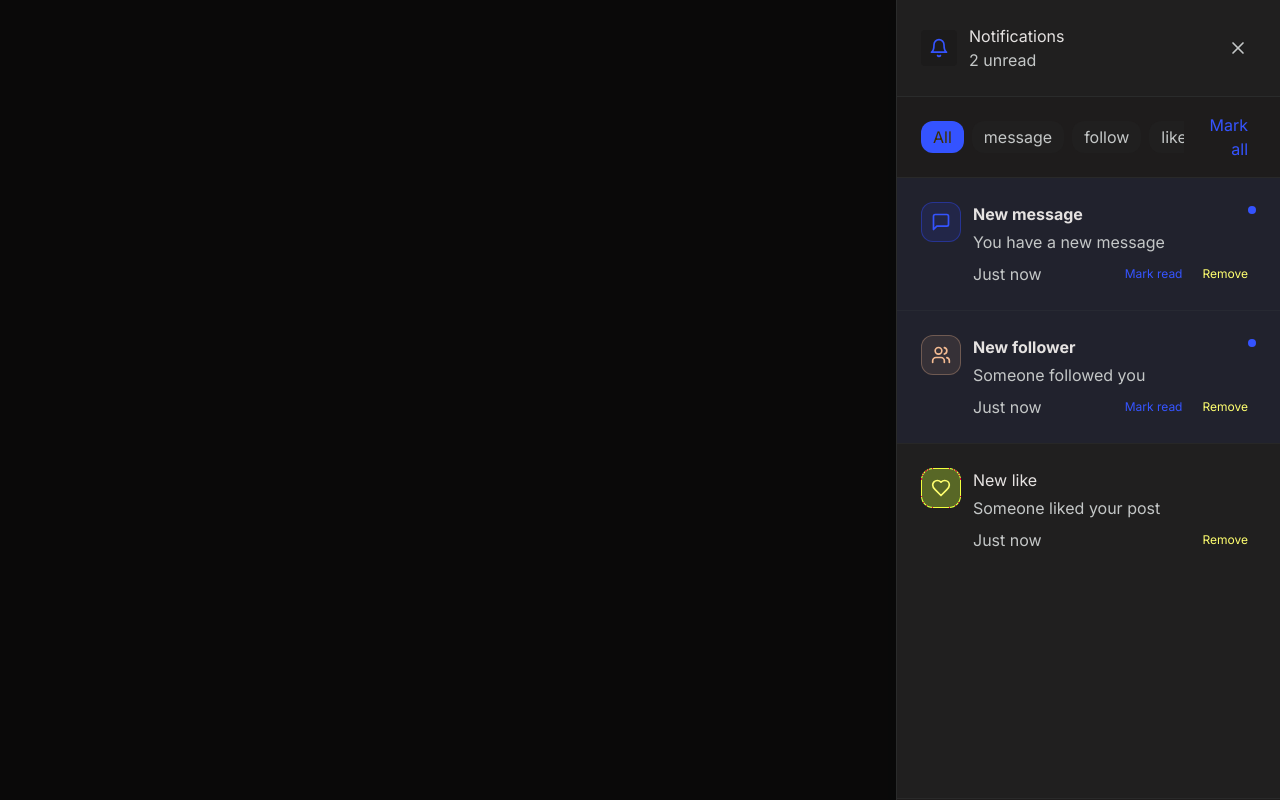
NotificationCenter › should filter notifications by type
What coordinates should you click on to do the following:
click the button "message"
I would click on:
 (1018, 137)
Its box is [972,121,1064,153].
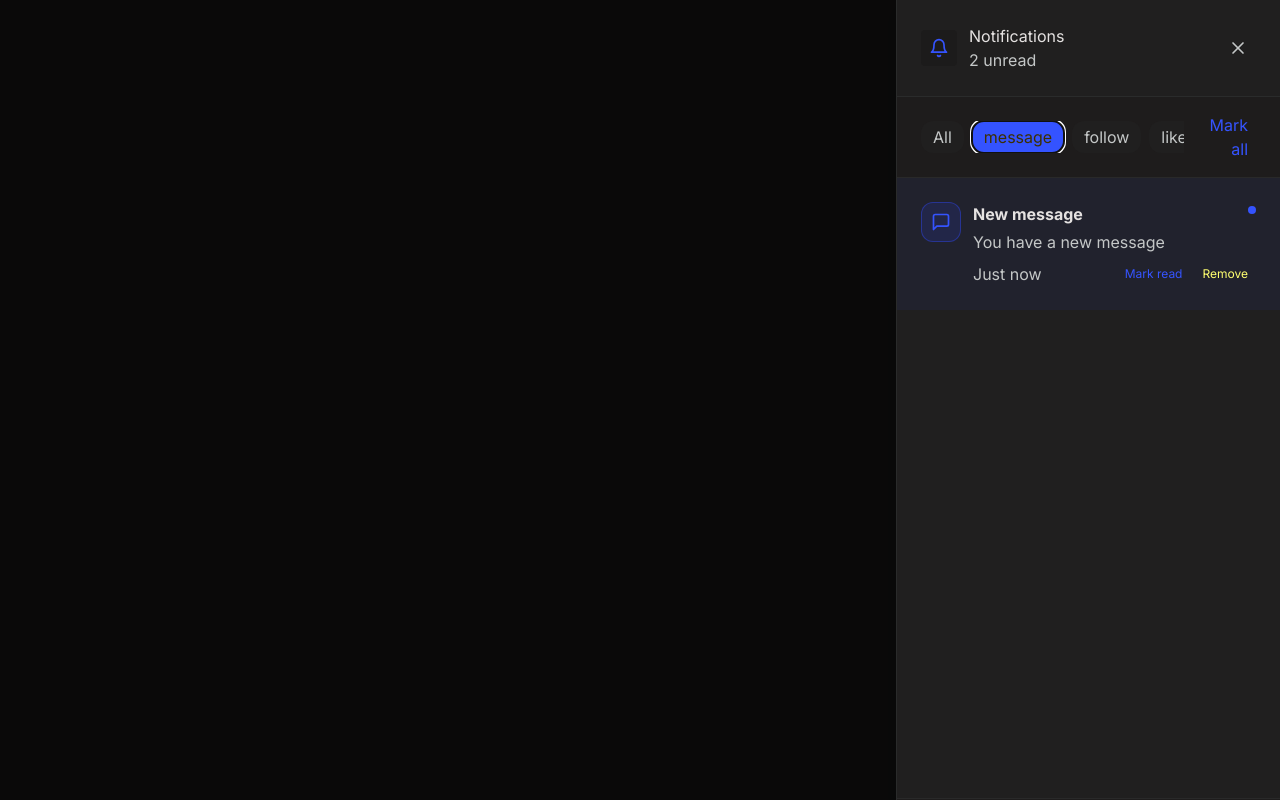
expect the text "New message" is shown: met, box [973,204,1083,224]
expect the text "New follower" is gone: met
